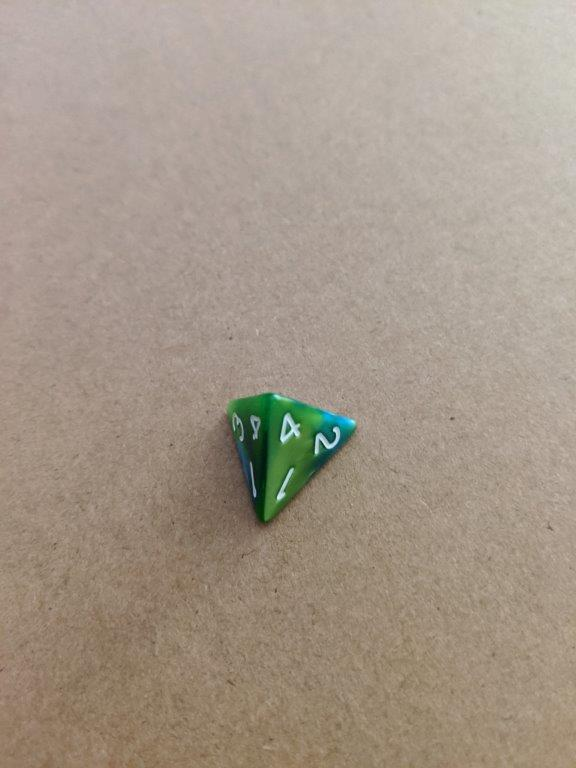d4-4: (223, 391, 358, 526)
